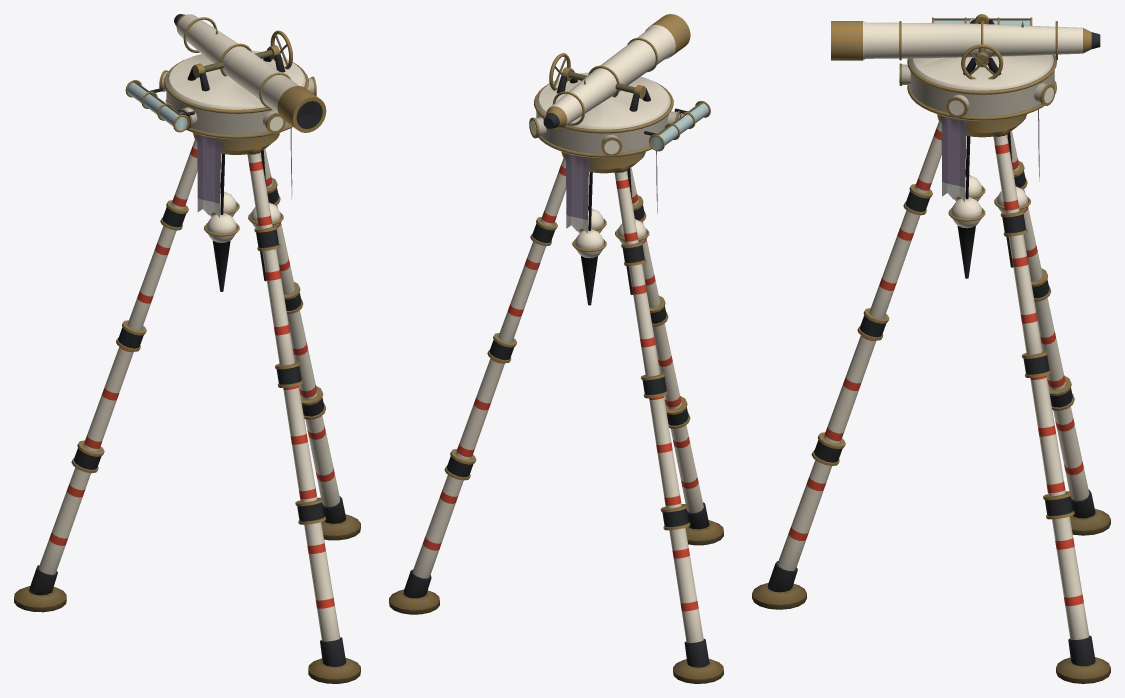
Rendered from transit-far.glb.
The picture shows the model from 3 angles, left to right: view 1: azimuth 30°, elevation 25°; view 2: azimuth 150°, elevation 25°; view 3: azimuth 270°, elevation 25°; orthographic projection. The views are drawn at different scales.
Parts seen in each view (by area): view 1: transit-far; view 2: transit-far; view 3: transit-far.
Part boxes in pixels (x1,y1,x2,y2): transit-far: (14,14,360,683); transit-far: (389,14,723,683); transit-far: (752,14,1110,683).
Size of the model in its own units: 14.03 by 22 by 12.4.
Materials: 1 (1 with a texture image).
